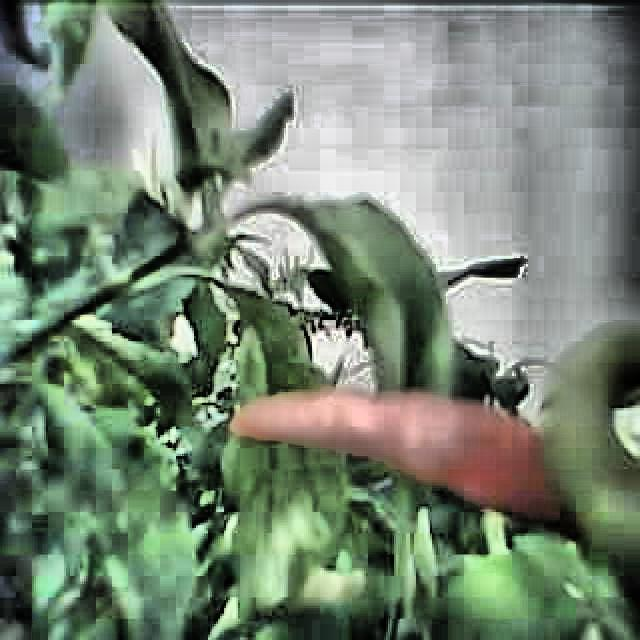Cabai: (258, 388, 552, 512)
